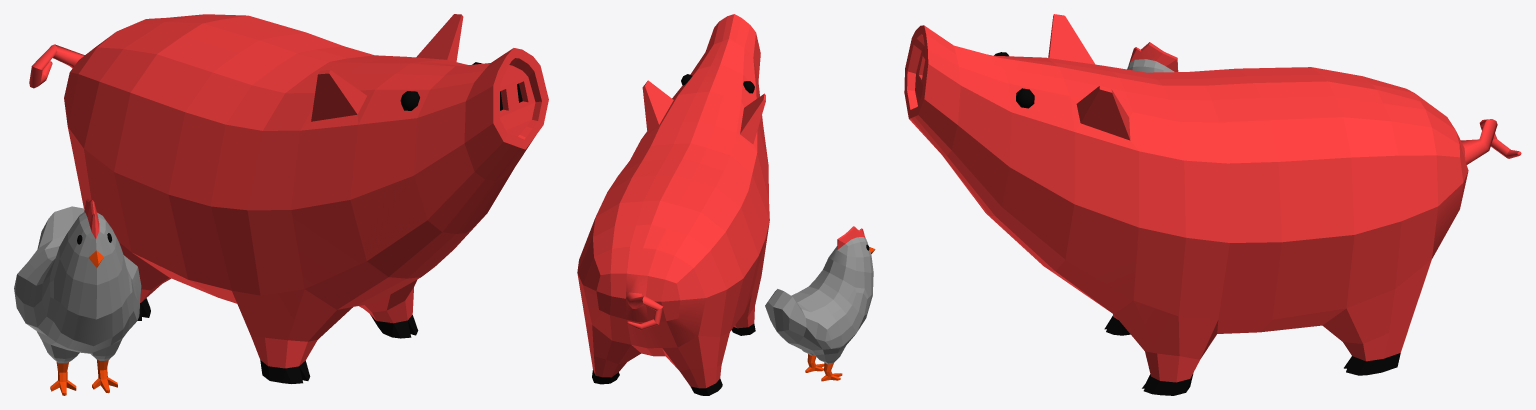
File: pig.fbx
The picture shows the model from 3 angles, left to right: view 1: azimuth 30°, elevation 25°; view 2: azimuth 150°, elevation 25°; view 3: azimuth 270°, elevation 25°; orthographic projection. The views are drawn at different scales.
Visible parts, largest first — view 1: Object001, Chicken; view 2: Object001, Chicken; view 3: Object001, Chicken.
Boxes of the visible parts, box(x1,y1,x2,y2) form: Object001: box(29, 14, 548, 383); Chicken: box(14, 198, 141, 395); Object001: box(577, 14, 769, 395); Chicken: box(765, 226, 875, 381); Object001: box(904, 14, 1521, 395); Chicken: box(1127, 42, 1178, 72).
Size of the model in its own units: 20.68 by 19.53 by 30.55.
